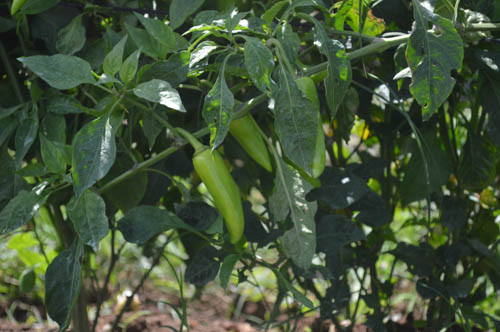ChiliPepper: (197, 153, 245, 245), (298, 80, 325, 176), (227, 119, 271, 169)
